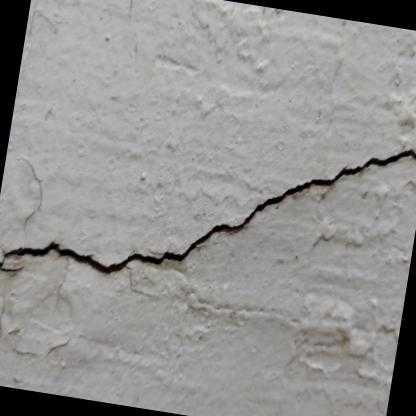crack: (0, 145, 416, 276)
